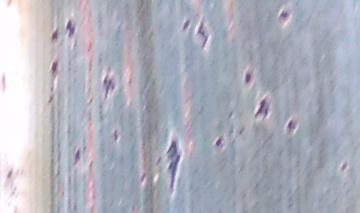tarspot: (164, 136, 182, 193), (193, 16, 211, 48), (251, 94, 273, 120), (100, 71, 118, 98), (239, 70, 255, 87), (283, 117, 298, 134), (276, 8, 291, 23), (70, 148, 84, 164), (214, 132, 225, 150), (47, 59, 59, 75), (49, 27, 60, 43), (110, 127, 120, 143), (181, 17, 190, 30)
